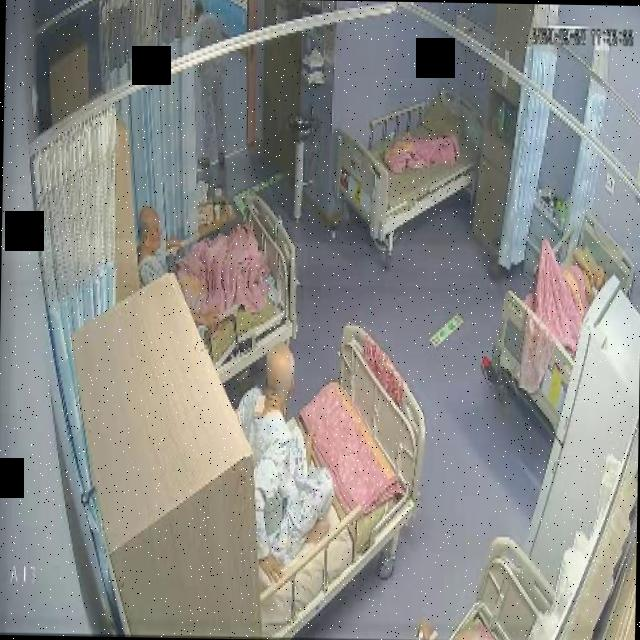bed: (227, 325, 427, 640), (491, 213, 634, 430), (160, 198, 296, 383), (337, 83, 482, 243)
patient: (236, 342, 332, 594), (134, 206, 218, 336), (188, 1, 232, 166)
sit: (236, 340, 332, 590), (134, 206, 272, 336)
stand: (188, 0, 231, 169)
